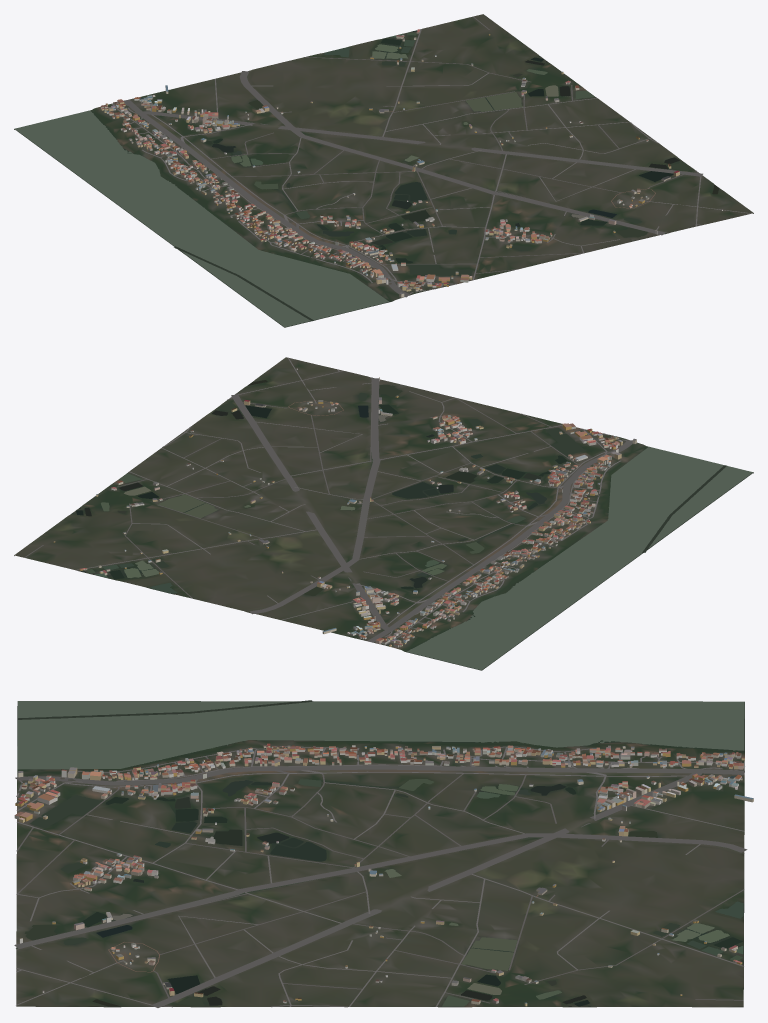
3 views of the same model, one above another, from view 1: azimuth 30°, elevation 25°; view 2: azimuth 150°, elevation 25°; view 3: azimuth 270°, elevation 25° (orthographic). The views are drawn at different scales.
Parts seen in each view (by area): view 1: ground, water, roads, buildings; view 2: ground, water, roads, buildings; view 3: ground, water, roads, buildings.
Boxes of the visible parts, x1,y1,x2,y2 form: ground: (14, 14, 753, 327); water: (15, 30, 719, 327); roads: (111, 16, 751, 297); buildings: (100, 29, 722, 297); ground: (14, 357, 753, 670); water: (72, 378, 752, 670); roads: (24, 357, 632, 645); buildings: (53, 368, 636, 647); ground: (16, 701, 744, 1007); water: (16, 700, 744, 1006); roads: (14, 746, 747, 1007); buildings: (14, 743, 753, 1006).
Size of the model in its own units: 1408 by 22.8 by 1426.
